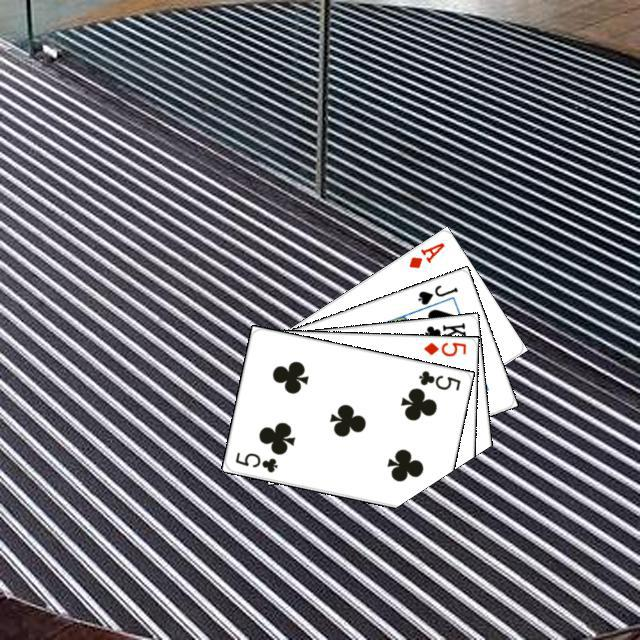5c: (230, 447, 279, 474), (414, 366, 462, 392)
5d: (419, 337, 468, 358)
Ad: (404, 237, 447, 270)
Js: (413, 280, 460, 307)
Kc: (416, 317, 468, 346)
